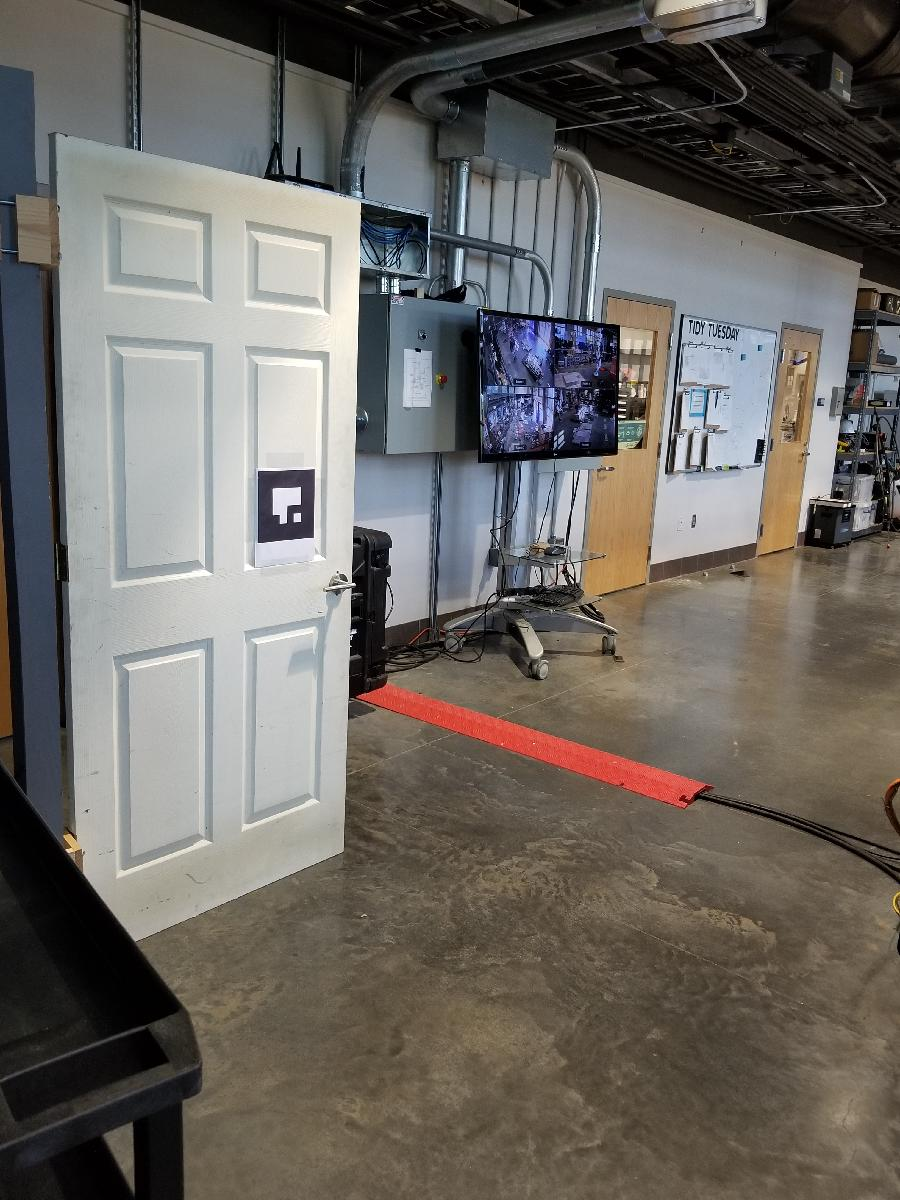door: (46, 129, 364, 950)
doorHandle: (321, 567, 360, 603)
